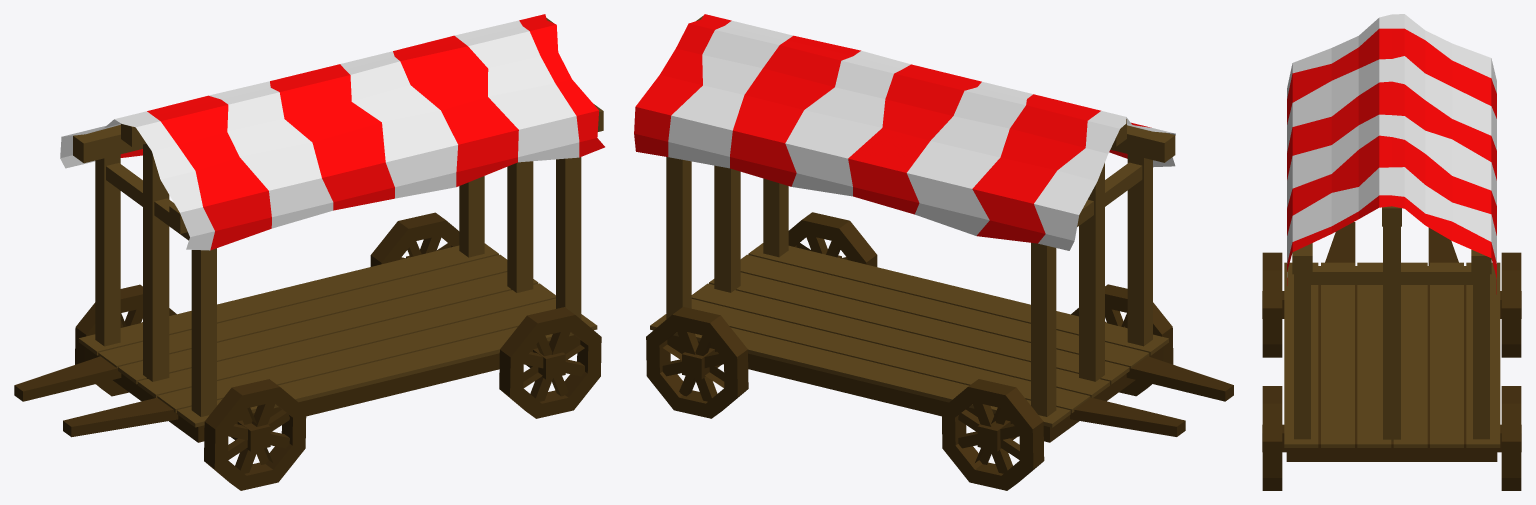
The model's file is TradingWaggon01.fbx.
3 renders of one model, left to right at view 1: azimuth 30°, elevation 25°; view 2: azimuth 150°, elevation 25°; view 3: azimuth 270°, elevation 25°, orthographic. The views are drawn at different scales.
Visible parts, largest first — view 1: Cylinder.001; view 2: Cylinder.001; view 3: Cylinder.001.
Boxes of the visible parts, x1=… form: Cylinder.001: x1=14, y1=14, x2=604, y2=490; Cylinder.001: x1=634, y1=14, x2=1233, y2=490; Cylinder.001: x1=1262, y1=14, x2=1521, y2=490.
Size of the model in its own units: 1048 by 641 by 493.
